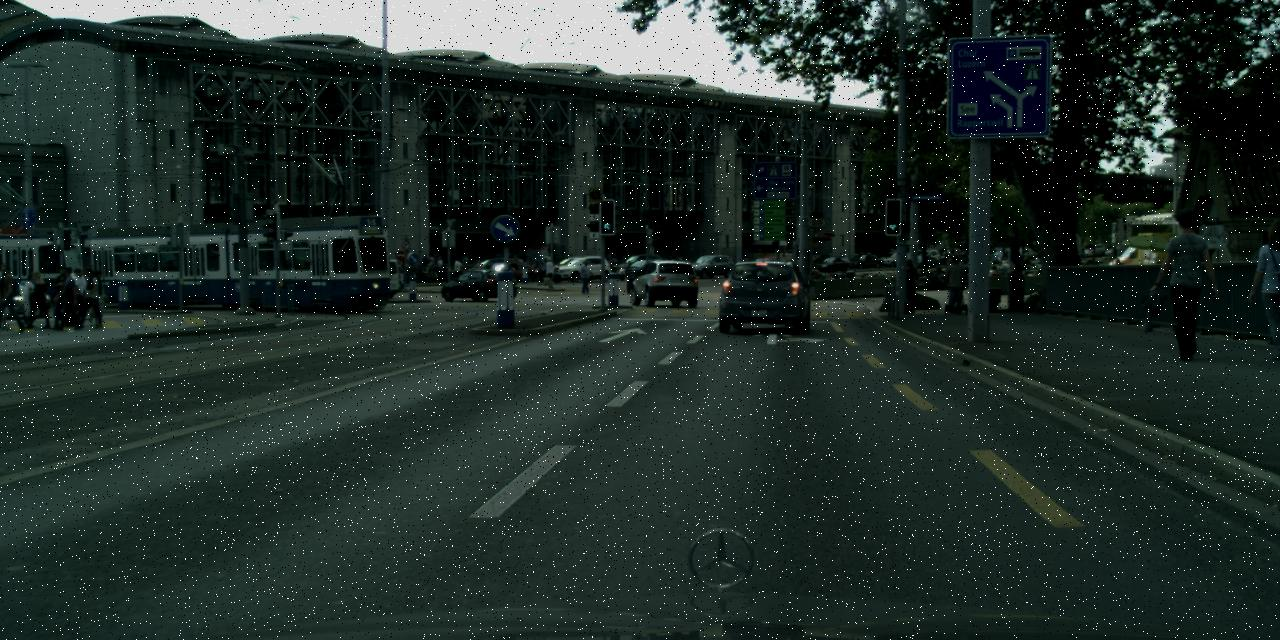ped: (1155, 208, 1216, 358), (4, 266, 104, 336), (1250, 217, 1279, 358), (942, 256, 966, 311), (898, 258, 919, 312), (404, 254, 444, 280), (623, 260, 636, 292), (453, 254, 469, 279), (578, 261, 590, 292)
